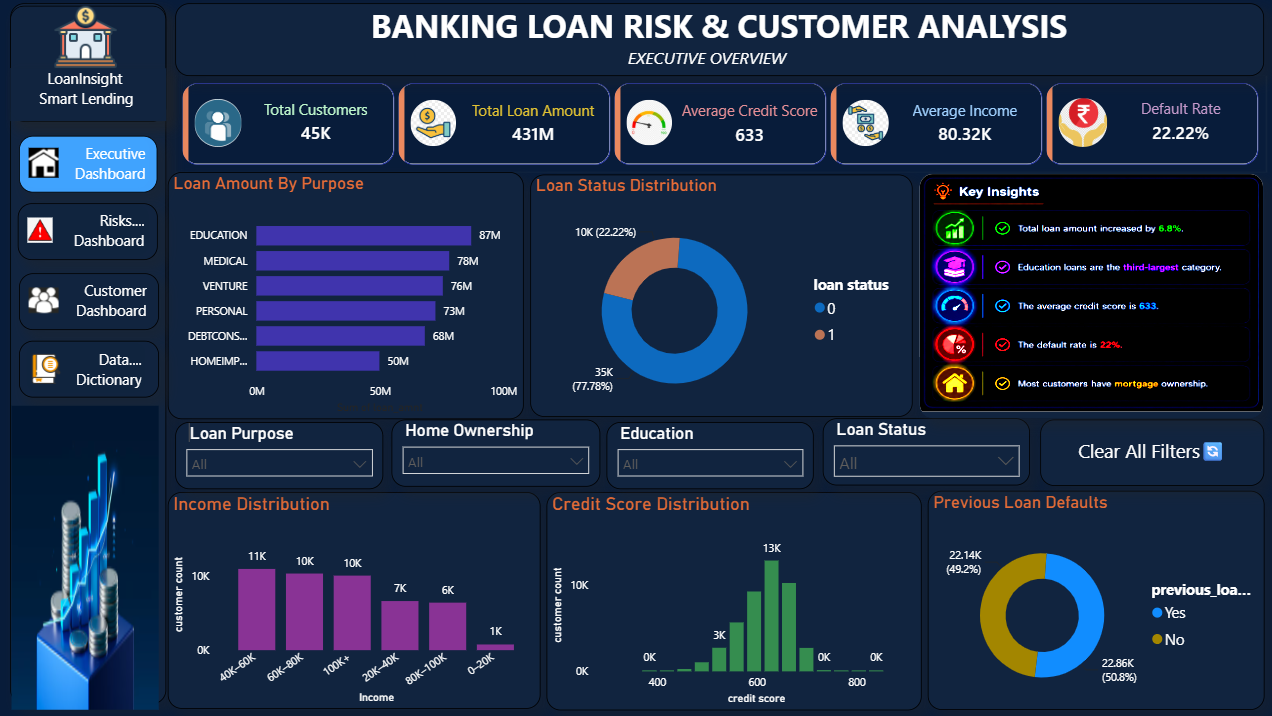

The page's visual inventory and layout, read from the dashboard file:
{"tool":"powerbi","page":{"name":"Executive dashboard","canvas":[1280,720],"ordinal":0},"visuals":[{"type":"cardVisual","fields":{"Data":["final_loan_analysis.Total Customers","final_loan_analysis.Total Loan Amount","final_loan_analysis.Average Credit Score","final_loan_analysis.Average Income","final_loan_analysis.Default Rate"]},"box":[176.1,78.4,1091.8,96.5],"z":0},{"type":"shape","box":[10.9,6,155.6,700.9],"z":1000},{"type":"clusteredBarChart","title":"Loan Amount By Purpose","fields":{"Y":["Sum(final_loan_analysis.loan_amnt)"],"Category":["final_loan_analysis.loan_intent"]},"box":[168.9,174.9,355.9,247.3],"z":2000},{"type":"donutChart","title":"Loan Status Distribution","fields":{"Category":["final_loan_analysis.loan_status"],"Y":["CountNonNull(final_loan_analysis.customer_id)"]},"box":[530.8,177.3,382.4,242.5],"z":3000},{"type":"clusteredColumnChart","title":"Income Distribution","fields":{"Y":["CountNonNull(final_loan_analysis.customer_id)"],"Category":["final_loan_analysis.Income Group"]},"box":[168.9,494.6,372.8,217.2],"z":4000},{"type":"clusteredColumnChart","title":"Credit Score Distribution","fields":{"Y":["CountNonNull(final_loan_analysis.customer_id)"],"Category":["final_loan_analysis.credit_score (bins)"]},"box":[547.7,494.6,375.2,218.4],"z":5000},{"type":"donutChart","title":"Previous Loan Defaults","fields":{"Category":["final_loan_analysis.previous_loan_defaults_on_file"],"Y":["CountNonNull(final_loan_analysis.customer_id)"]},"box":[929,493.4,336.6,219.6],"z":6000},{"type":"slicer","fields":{"Values":["final_loan_analysis.loan_intent"]},"box":[176.1,424.7,208,67.6],"z":7000},{"type":"slicer","fields":{"Values":["final_loan_analysis.person_home_ownership"]},"box":[392.1,422.3,208.7,67.6],"z":8000},{"type":"slicer","fields":{"Values":["final_loan_analysis.person_education"]},"box":[608,424.7,207.5,67.6],"z":9000},{"type":"slicer","fields":{"Values":["final_loan_analysis.loan_status"]},"box":[824,421,207.5,67.6],"z":10000},{"type":"actionButton","box":[1041.2,422.5,223.8,66.2],"z":11000},{"type":"image","box":[920.5,176.1,345,244.9],"z":12000},{"type":"shape","box":[10.9,8.4,155.6,115.8],"z":13000},{"type":"image","box":[44.6,8.4,83.2,62.7],"z":14000},{"type":"textbox","box":[10.9,71.2,155.6,53.1],"z":15000},{"type":"actionButton","box":[20.5,138.7,138.7,56.7],"z":16000},{"type":"actionButton","box":[19.3,206.3,139.9,56.7],"z":17000},{"type":"actionButton","box":[20.5,276.3,139.9,56.7],"z":18000},{"type":"actionButton","box":[20.5,343.8,139.9,56.7],"z":19000},{"type":"textbox","box":[176.2,6.2,1088.8,72.5],"z":20001},{"type":"image","box":[12.1,409,147.2,304],"z":21501}]}

Visuals, with their boxes on the page's 1280x720 design canvas (x1, y1, x2, y2). These are canvas units, not pixel positions in the 1272x716 screenshot, which may show the page scaled, cropped or inside an application window:
cardVisual - final_loan_analysis.Total Customers x final_loan_analysis.Total Loan Amount: (176, 78, 1268, 175)
shape: (11, 6, 166, 707)
"Loan Amount By Purpose" clusteredBarChart: (169, 175, 525, 422)
"Loan Status Distribution" donutChart: (531, 177, 913, 420)
"Income Distribution" clusteredColumnChart: (169, 495, 542, 712)
"Credit Score Distribution" clusteredColumnChart: (548, 495, 923, 713)
"Previous Loan Defaults" donutChart: (929, 493, 1266, 713)
slicer - final_loan_analysis.loan_intent: (176, 425, 384, 492)
slicer - final_loan_analysis.person_home_ownership: (392, 422, 601, 490)
slicer - final_loan_analysis.person_education: (608, 425, 816, 492)
slicer - final_loan_analysis.loan_status: (824, 421, 1032, 489)
actionButton: (1041, 422, 1265, 489)
image: (920, 176, 1266, 421)
shape: (11, 8, 166, 124)
image: (45, 8, 128, 71)
textbox: (11, 71, 166, 124)
actionButton: (20, 139, 159, 195)
actionButton: (19, 206, 159, 263)
actionButton: (20, 276, 160, 333)
actionButton: (20, 344, 160, 400)
textbox: (176, 6, 1265, 79)
image: (12, 409, 159, 713)
